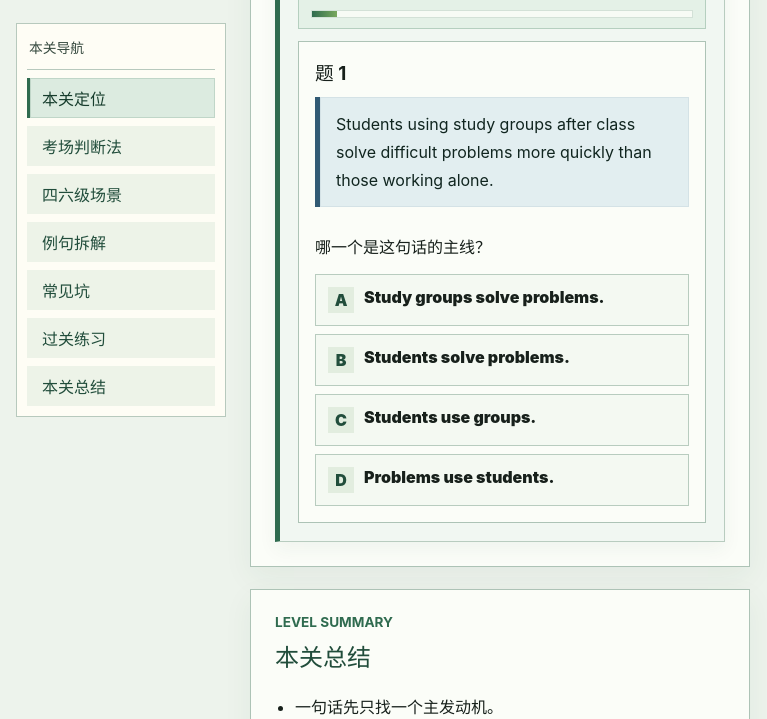
LevelThreePage › renders the main-engine lesson and gives instant feedback
(page scrolled)
Expected: the navigation bar named "第 3 关学习路线" is shown, [16,23,226,417]
Expected: the heading "题 1" is shown, [315,58,346,85]
Click the button "B Students solve problems." at (502, 360), box [315,334,689,386]
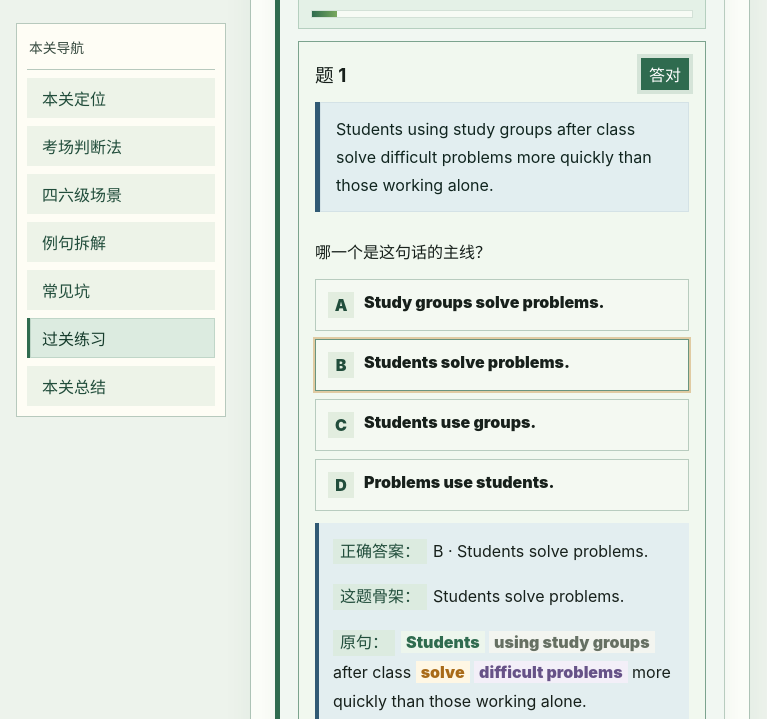
Result: the text "答对" is shown at [641,58,689,90]
Result: the element named "原句标色" shows "Students" at [406,632,480,652]
